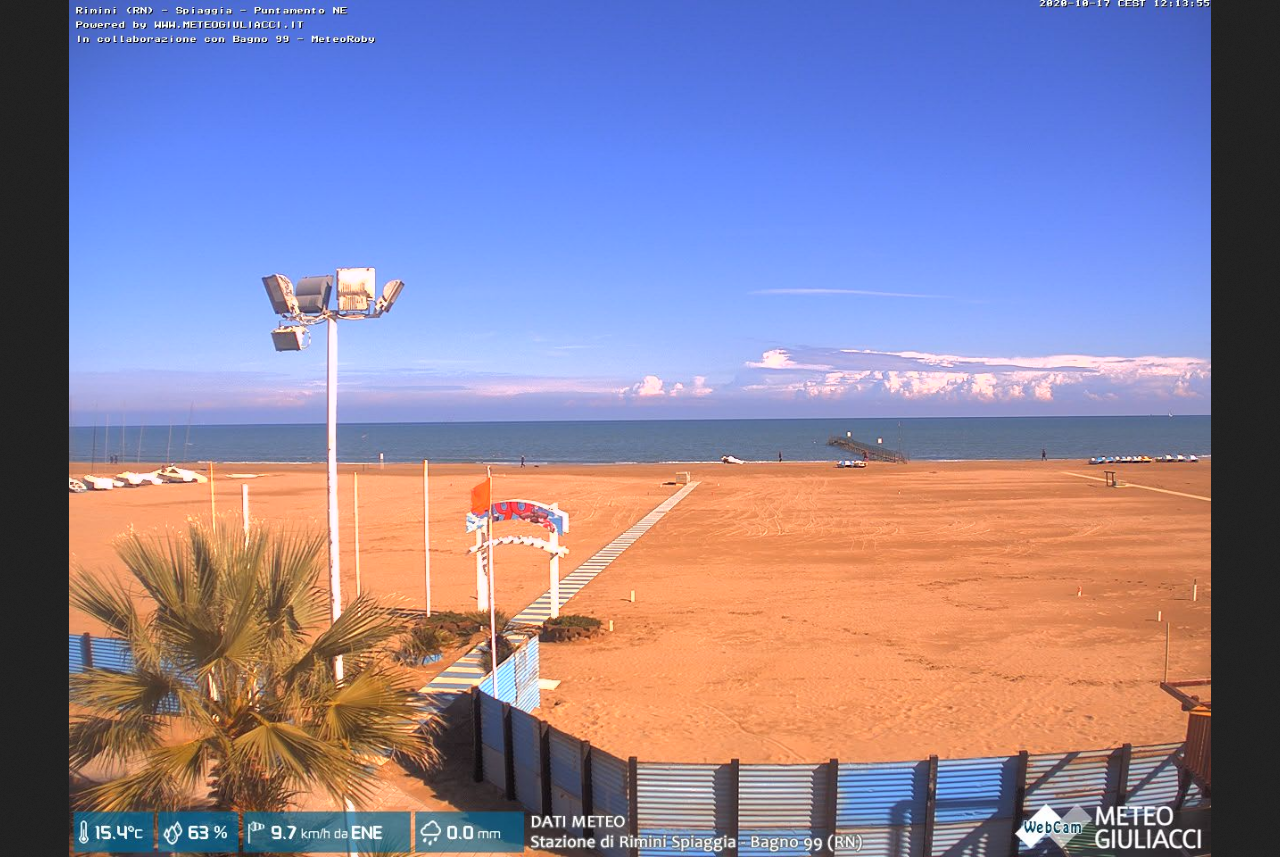maybe: (464, 469, 497, 523)
